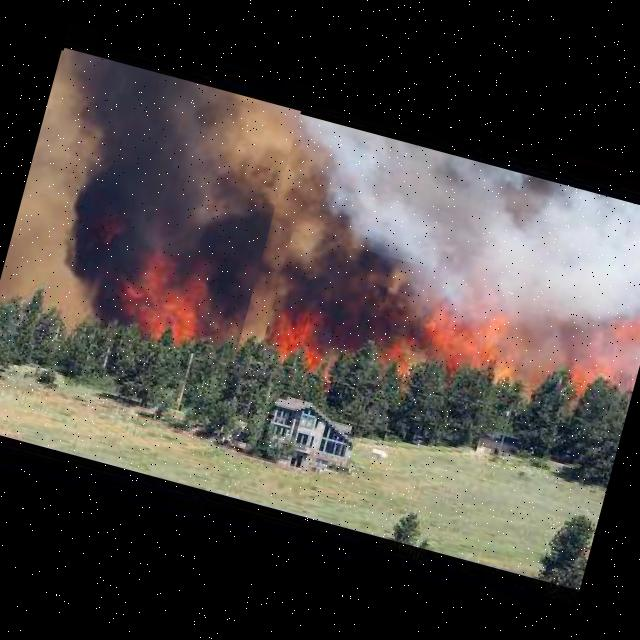fire: (0, 47, 300, 363), (419, 251, 640, 440), (258, 230, 428, 396)
